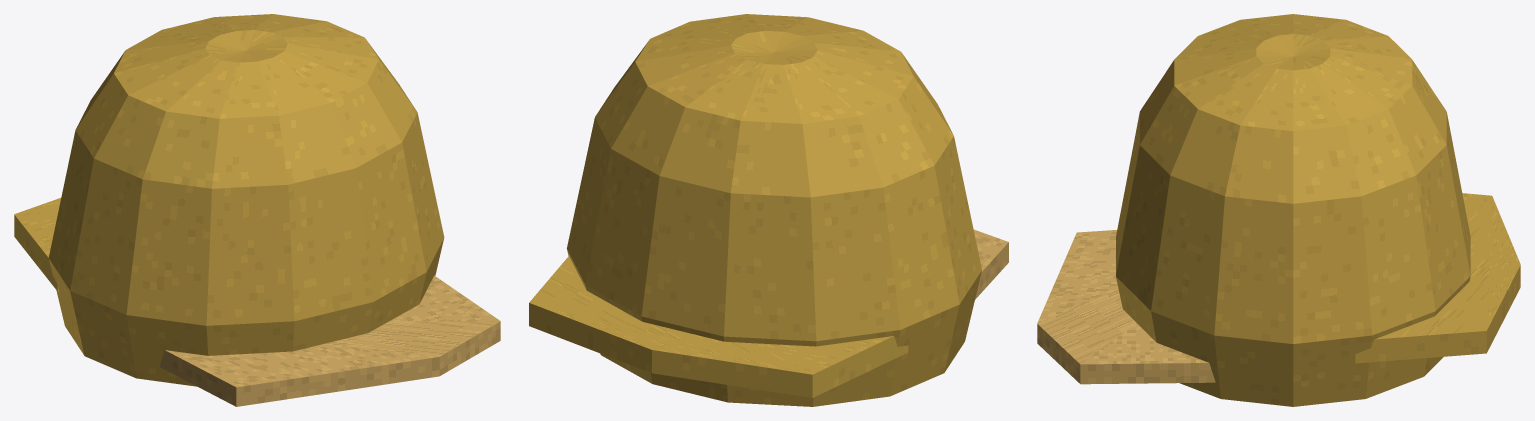
File: hat_hard_hooded.glb
3 renders of one model, left to right at view 1: azimuth 30°, elevation 25°; view 2: azimuth 150°, elevation 25°; view 3: azimuth 270°, elevation 25°, orthographic. The views are drawn at different scales.
Parts seen in each view (by area): view 1: block_helmet shell, block_folded sun shield, block_front brim; view 2: block_helmet shell, block_front brim, block_folded sun shield; view 3: block_helmet shell, block_folded sun shield, block_front brim.
Part boxes in pixels (x1,y1,x2,y2): block_helmet shell: [48, 14, 444, 386]; block_folded sun shield: [159, 275, 500, 406]; block_front brim: [14, 198, 60, 291]; block_helmet shell: [567, 14, 981, 406]; block_front brim: [529, 256, 908, 397]; block_folded sun shield: [973, 229, 1008, 299]; block_helmet shell: [1116, 14, 1470, 406]; block_folded sun shield: [1037, 230, 1215, 384]; block_front brim: [1355, 193, 1520, 363].
Size of the model in its own units: 0.2395 by 0.1754 by 0.28.
Materials: 1 (1 with a texture image).
